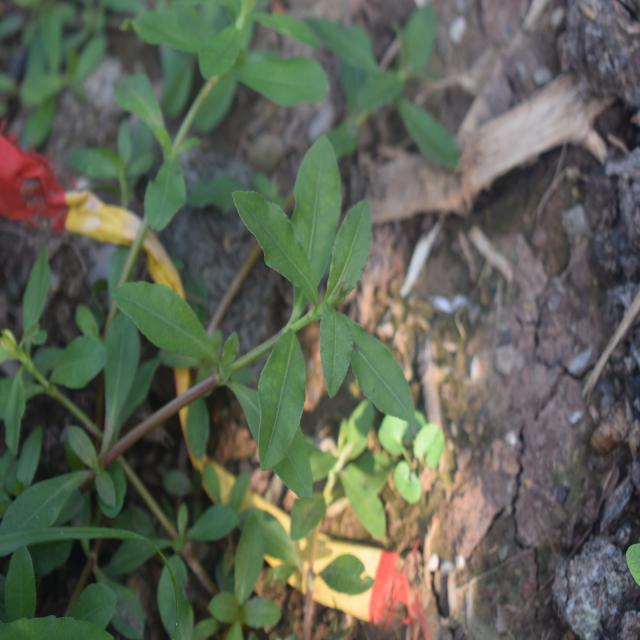Alligatorweed: (92, 150, 422, 460)
